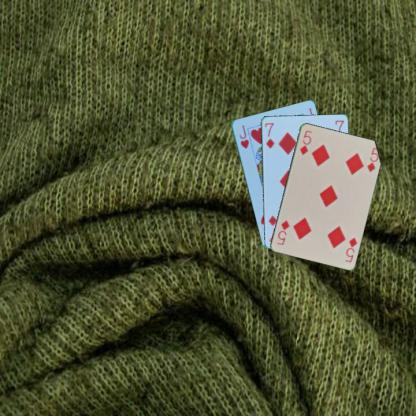5d: (297, 127, 313, 156), (343, 234, 358, 264)
7d: (262, 120, 276, 149)
Jh: (236, 122, 250, 150)
